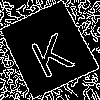K: (23, 24, 75, 80)
